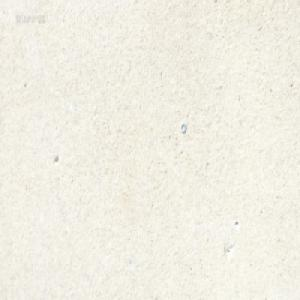Washer: (180, 122, 186, 133)
